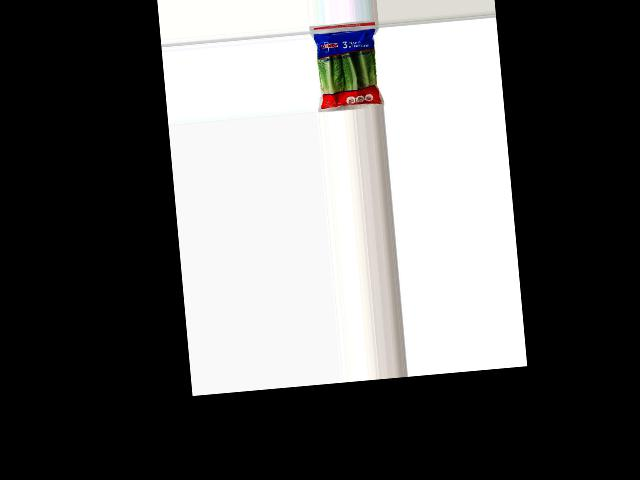lettuce: (312, 26, 383, 112)
